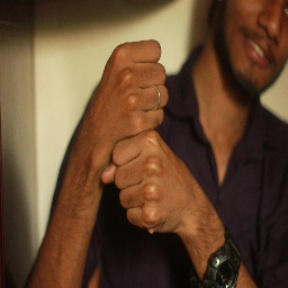G: (78, 34, 195, 237)
